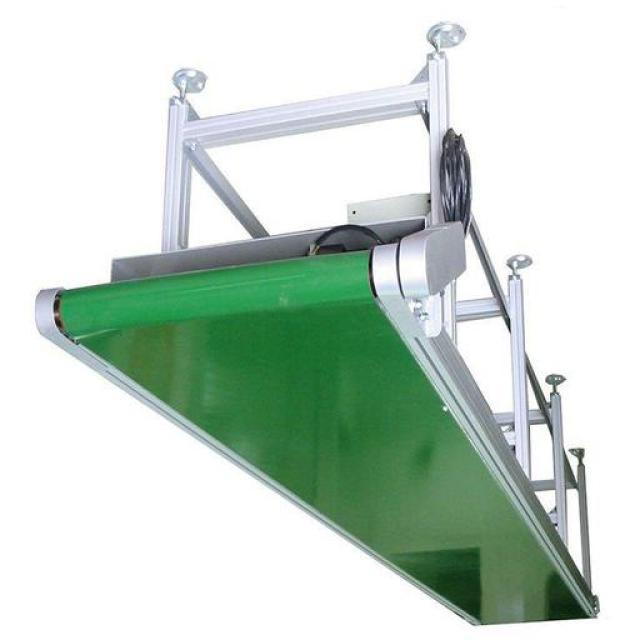conveyor: (47, 244, 588, 631)
